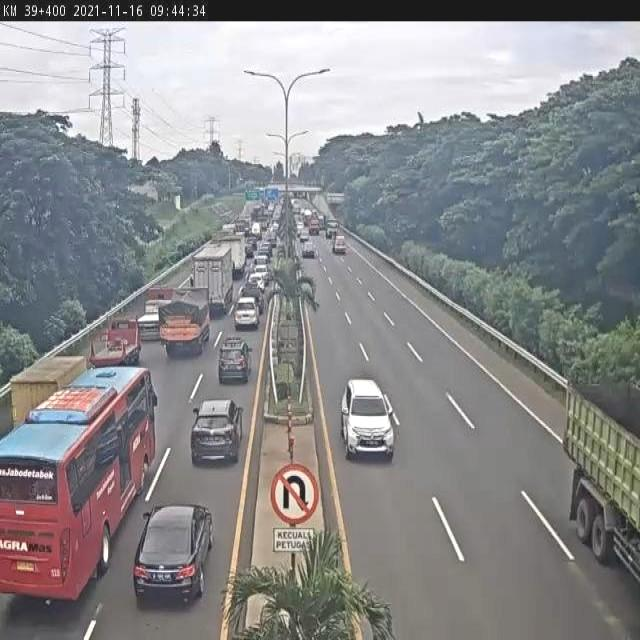Bus: (0, 362, 162, 610)
Car: (132, 502, 213, 606), (335, 366, 401, 462), (188, 397, 244, 464), (217, 337, 252, 384), (233, 296, 261, 331), (332, 235, 347, 254), (302, 242, 316, 258)
Truck: (564, 348, 640, 564), (7, 355, 84, 415), (160, 290, 220, 356), (190, 232, 236, 313), (94, 310, 142, 357)
